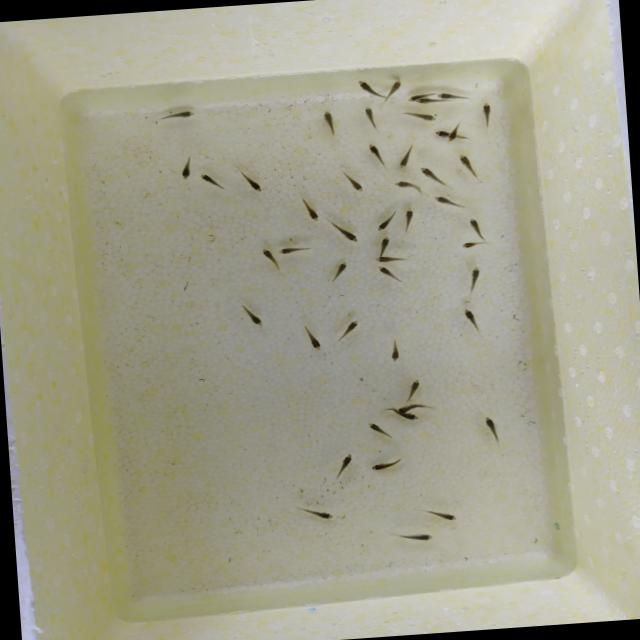fingerling: (296, 322, 330, 358), (476, 410, 506, 450), (372, 262, 409, 290), (412, 505, 461, 526), (236, 300, 268, 332), (328, 449, 358, 480), (361, 418, 398, 442), (337, 168, 368, 195), (156, 106, 199, 125), (400, 106, 440, 126), (362, 140, 390, 168), (238, 168, 266, 195), (315, 106, 340, 136), (198, 170, 229, 194), (456, 152, 482, 180), (420, 162, 445, 191), (390, 528, 438, 543), (334, 318, 364, 342), (460, 306, 484, 336), (396, 140, 418, 172), (296, 195, 321, 223), (329, 220, 358, 244), (302, 504, 340, 522), (325, 260, 353, 284), (257, 244, 280, 273), (462, 264, 484, 294), (354, 76, 381, 100), (429, 192, 464, 210), (366, 458, 405, 474), (360, 105, 383, 132), (390, 178, 424, 196), (398, 206, 418, 234), (382, 76, 405, 100), (176, 155, 196, 182), (386, 338, 406, 364), (277, 244, 316, 257), (466, 215, 488, 238), (404, 377, 424, 402), (376, 210, 397, 232), (372, 253, 408, 264), (439, 90, 471, 102), (478, 100, 492, 126), (392, 402, 428, 412), (448, 120, 462, 142), (458, 240, 481, 252), (377, 235, 391, 252), (412, 96, 440, 104), (432, 128, 448, 140), (405, 412, 423, 422)
